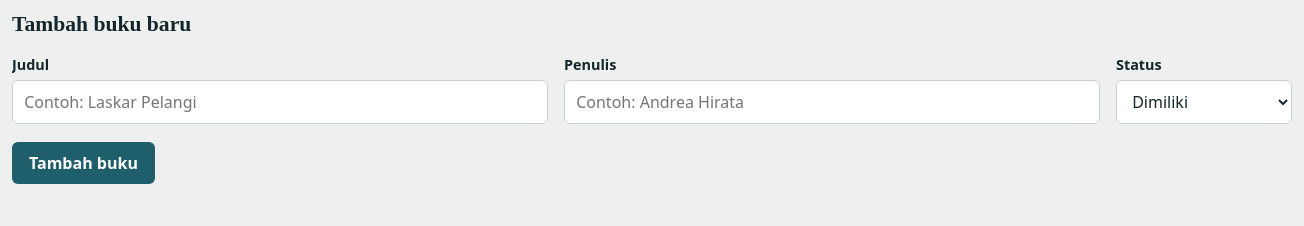
Scenario: BookForm › menghapus pesan error saat pengguna mulai mengetik
Click the button "Tambah buku" at (83, 162), box [12,142,155,184]
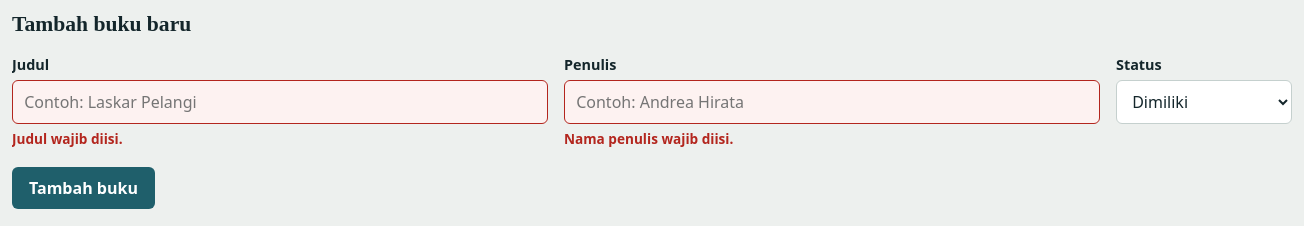
Result: the text "Judul wajib diisi." is shown at [12,129,123,148]
Type "B" into the field labelled "Judul" at (280, 102), box [12,80,548,124]
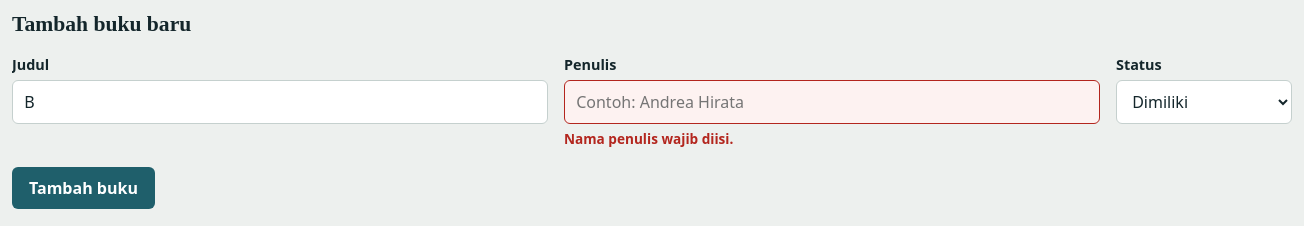
Result: the text "Judul wajib diisi." is gone
